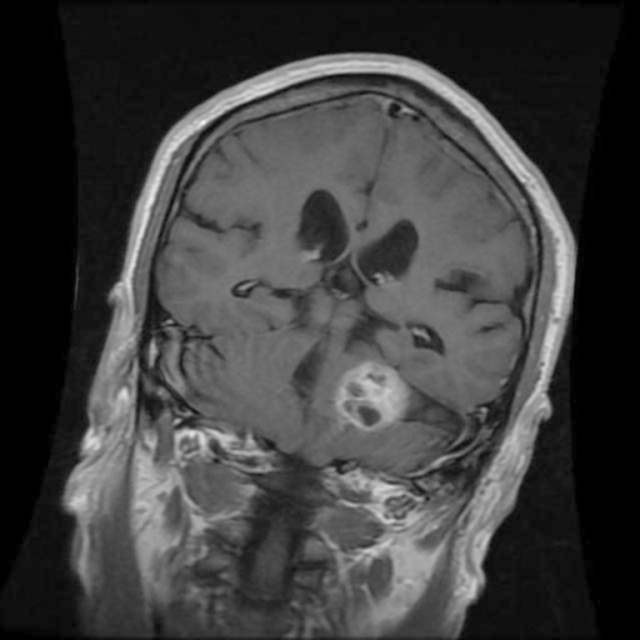meningioma tumor: (330, 357, 420, 448)
